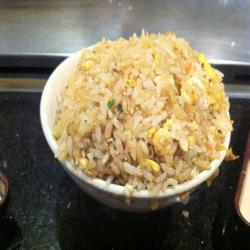rice: (42, 36, 237, 208)
